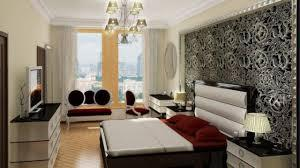bed: (98, 79, 258, 168)
chair: (123, 86, 148, 119)
door: (36, 47, 48, 103)
light: (101, 0, 154, 45), (241, 111, 271, 147), (174, 90, 197, 113)
sofa: (66, 87, 113, 127)
table: (9, 103, 63, 168), (227, 135, 292, 168), (149, 93, 174, 115), (163, 105, 194, 118)
